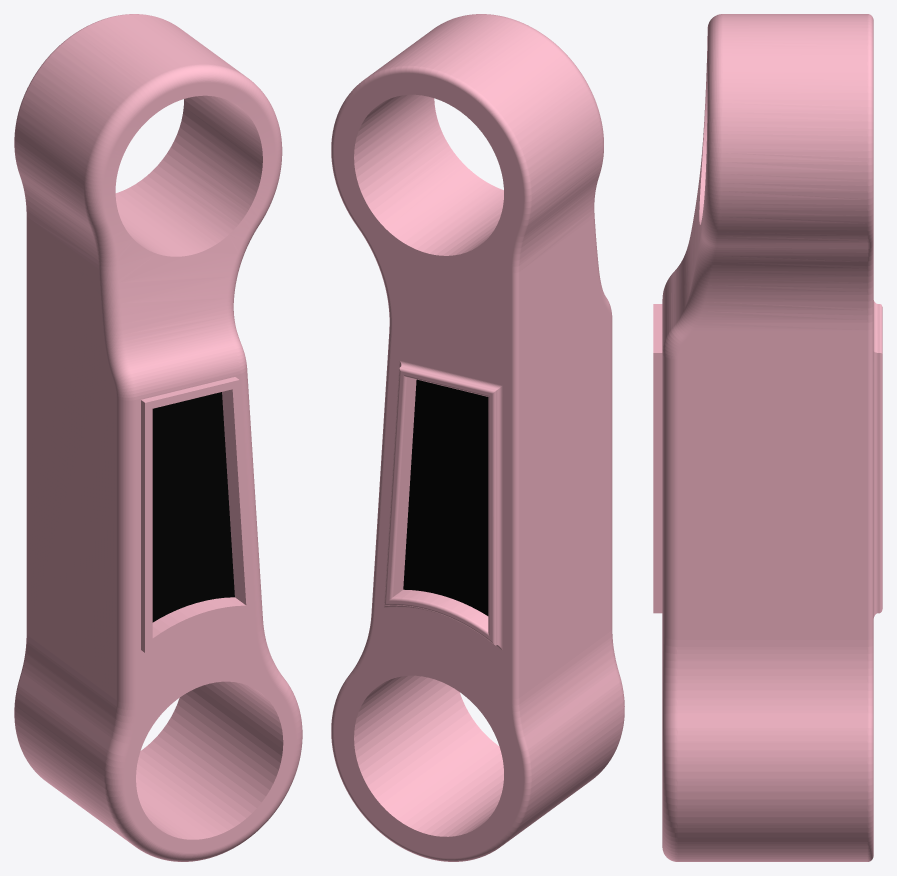
The model's file is Astorino Robot Joint 2.dae.
3 views of the same model, side by side, from view 1: azimuth 30°, elevation 25°; view 2: azimuth 150°, elevation 25°; view 3: azimuth 270°, elevation 25° (orthographic). The views are drawn at different scales.
Visible parts, largest first — view 1: Astorino Robot Joint 2; view 2: Astorino Robot Joint 2; view 3: Astorino Robot Joint 2.
Boxes of the visible parts, left/top/right/bottom form: Astorino Robot Joint 2: left=14, top=14, right=302, bottom=861; Astorino Robot Joint 2: left=331, top=14, right=624, bottom=861; Astorino Robot Joint 2: left=653, top=14, right=882, bottom=861.
Size of the model in its own units: 0.08 by 0.076 by 0.302.
